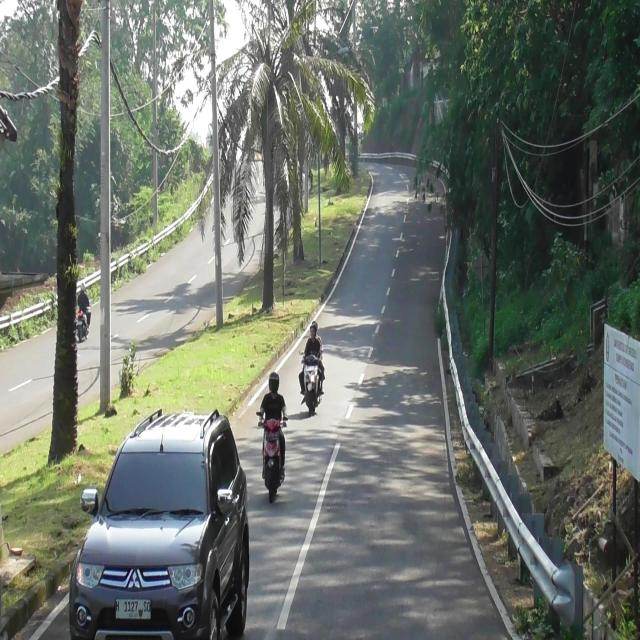motorcycle: (255, 411, 288, 503), (298, 348, 324, 418), (73, 308, 93, 342)
person: (259, 373, 287, 478), (302, 320, 324, 360), (302, 336, 323, 372), (77, 283, 91, 332)
rider_region: (257, 371, 290, 499), (298, 320, 326, 421), (75, 277, 92, 343)
